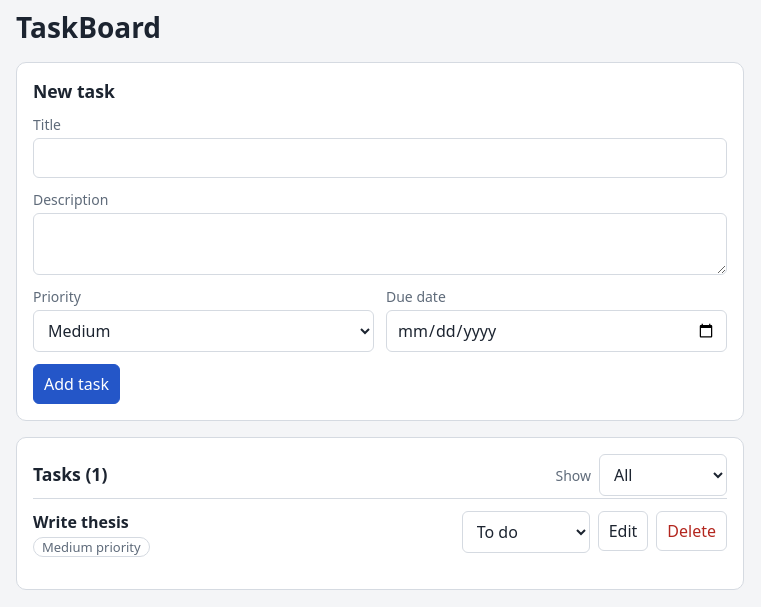
Test: App › deletes a task after confirmation
This screenshot has width=761, height=607.
Click the button with aria-label "Delete Write thesis" at (692, 531), box [656,511,727,551]
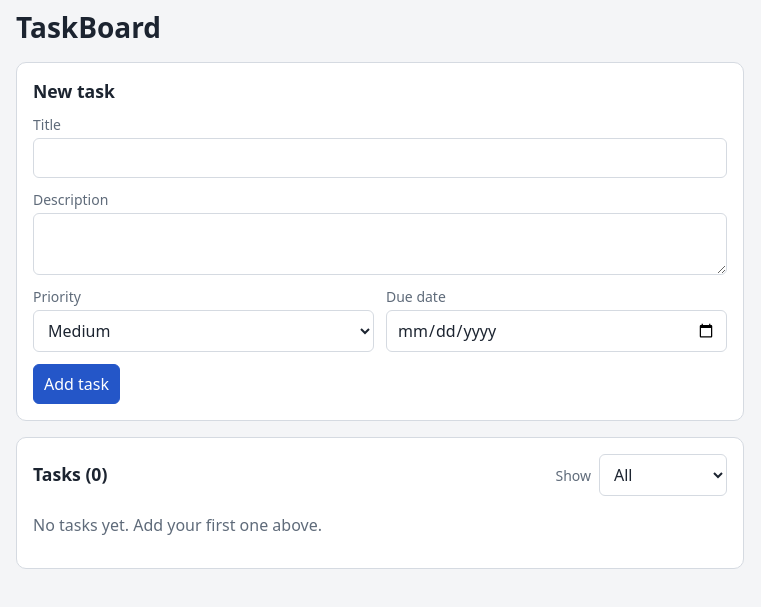
Now the heading "Write thesis" is gone
